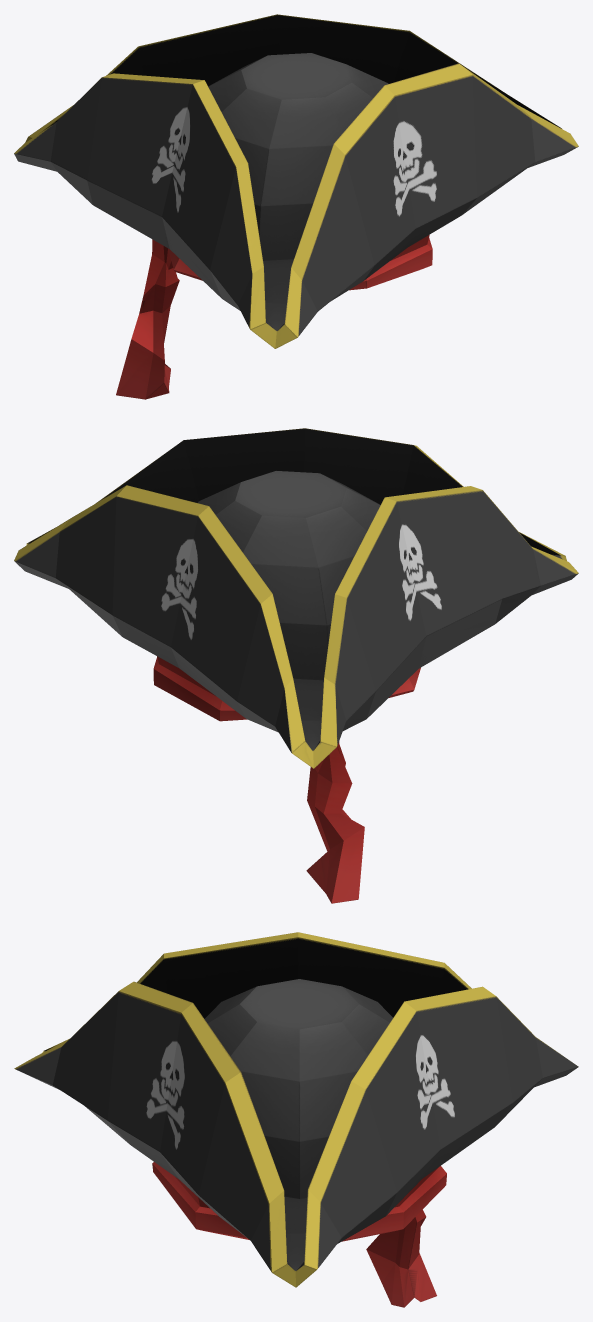
The model's file is pirateHat.glb.
The picture shows the model from 3 angles, top to bottom: view 1: azimuth 30°, elevation 25°; view 2: azimuth 150°, elevation 25°; view 3: azimuth 270°, elevation 25°; orthographic projection. The views are drawn at different scales.
Visible parts, largest first — view 1: node-0; view 2: node-0; view 3: node-0.
Part boxes in pixels (bbox=[...]): node-0: bbox=[14, 14, 578, 399]; node-0: bbox=[14, 428, 578, 903]; node-0: bbox=[14, 932, 578, 1307].
Size of the model in its own units: 11.5 by 8.86 by 12.39.
1 material, 1 textured.
